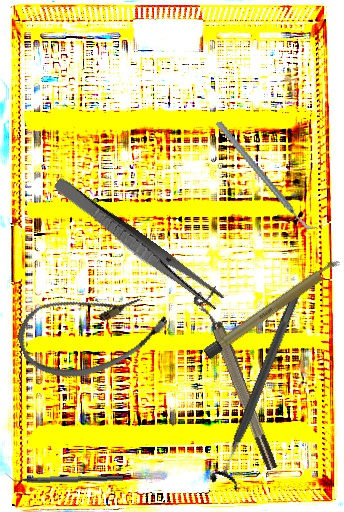Cannula: (9, 266, 176, 394)
Chopper: (214, 103, 319, 249), (4, 467, 124, 486)
Dressing Forceps: (48, 175, 227, 313)
Fixation Ring: (207, 281, 314, 493), (191, 286, 281, 475)
Scalpel Handle: (202, 256, 344, 361)
